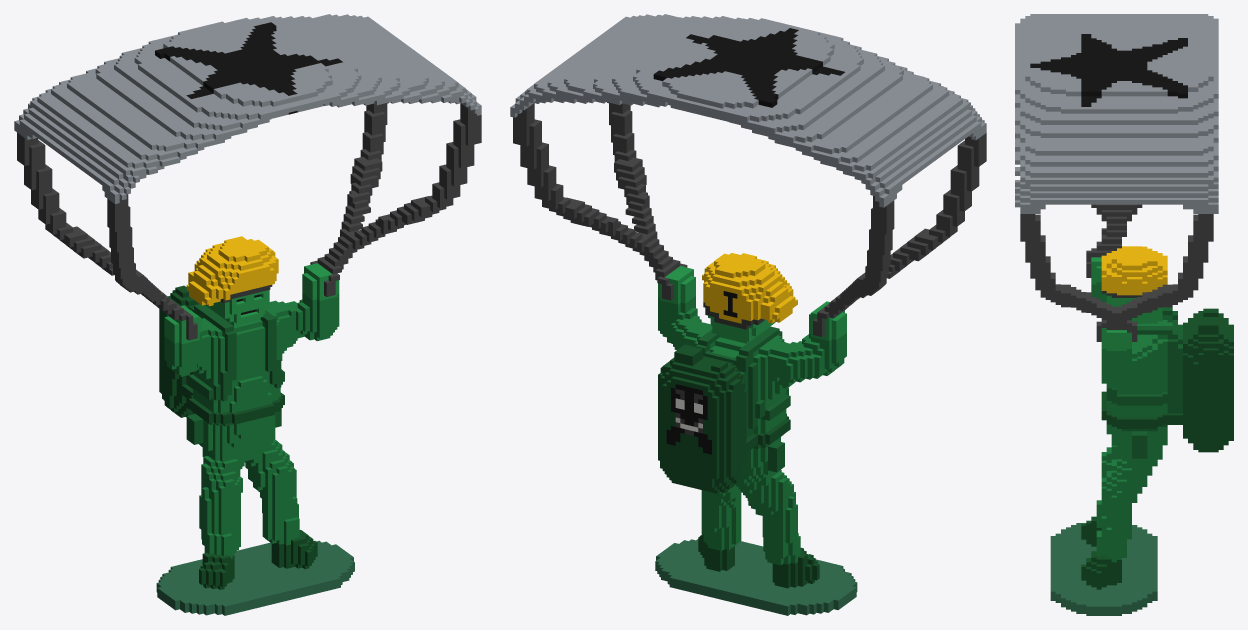
File: parachote_soldier_v3_rifle.obj
The picture shows the model from 3 angles, left to right: view 1: azimuth 30°, elevation 25°; view 2: azimuth 150°, elevation 25°; view 3: azimuth 270°, elevation 25°; orthographic projection. The views are drawn at different scales.
Size of the model in its own units: 8.2 by 11 by 4.3.
Materials: 1 (1 with a texture image).
